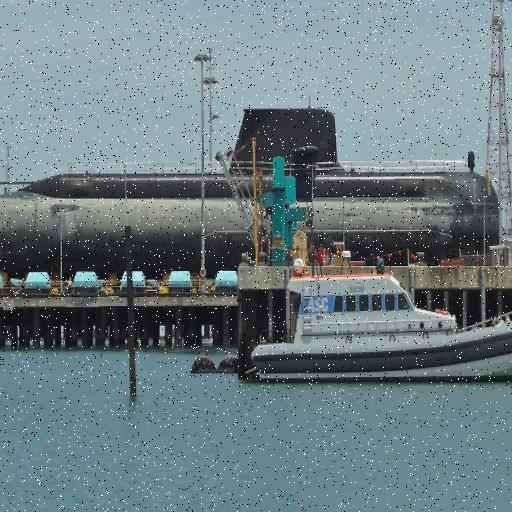submarine: (1, 111, 500, 251)
